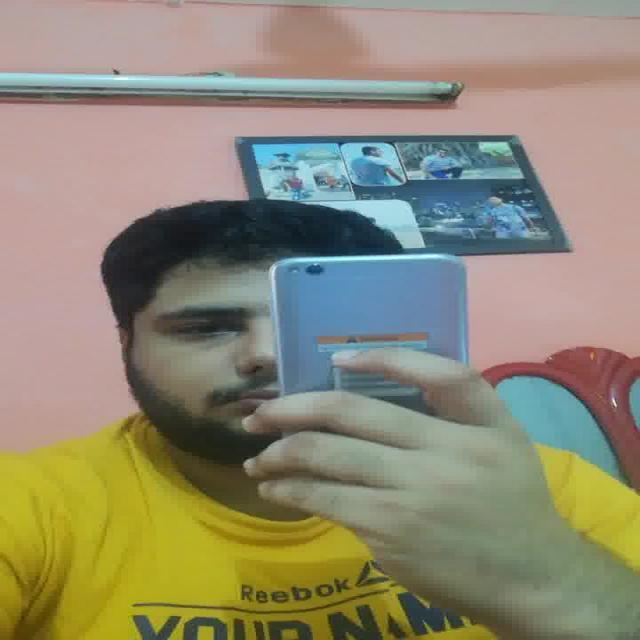Phone: (268, 251, 472, 388)
